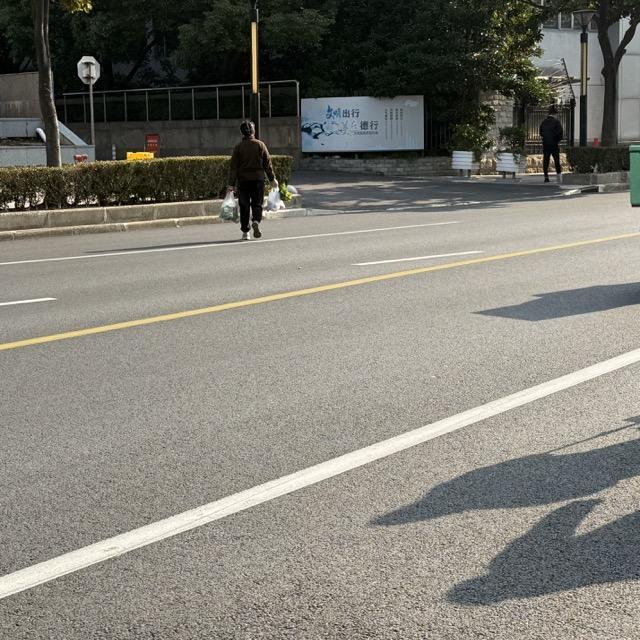curb: (0, 200, 225, 239), (0, 201, 220, 229), (0, 215, 223, 241), (562, 171, 628, 185), (271, 207, 309, 216)
